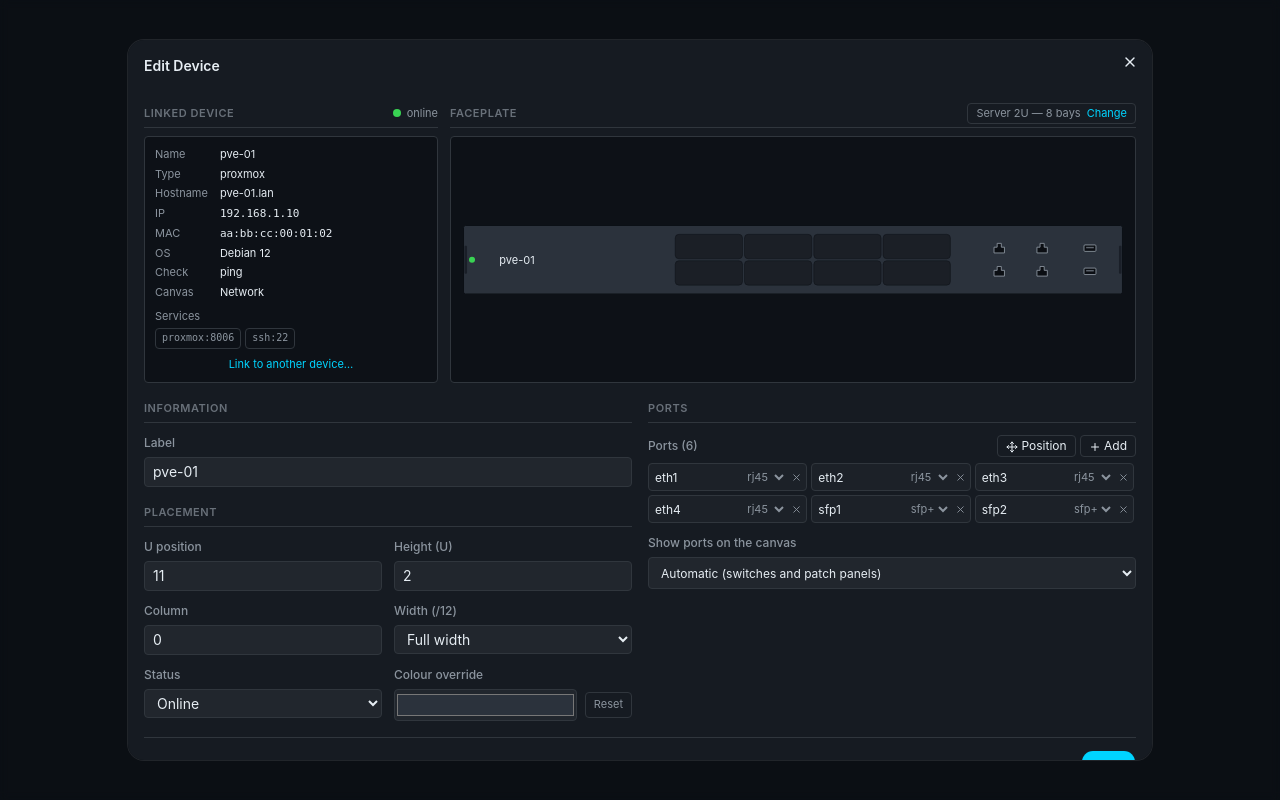
RackDeviceModal — editing › has nothing to position on a plate with no port
Click the button named "Remove port eth1": (797, 477) [789, 472, 804, 483]
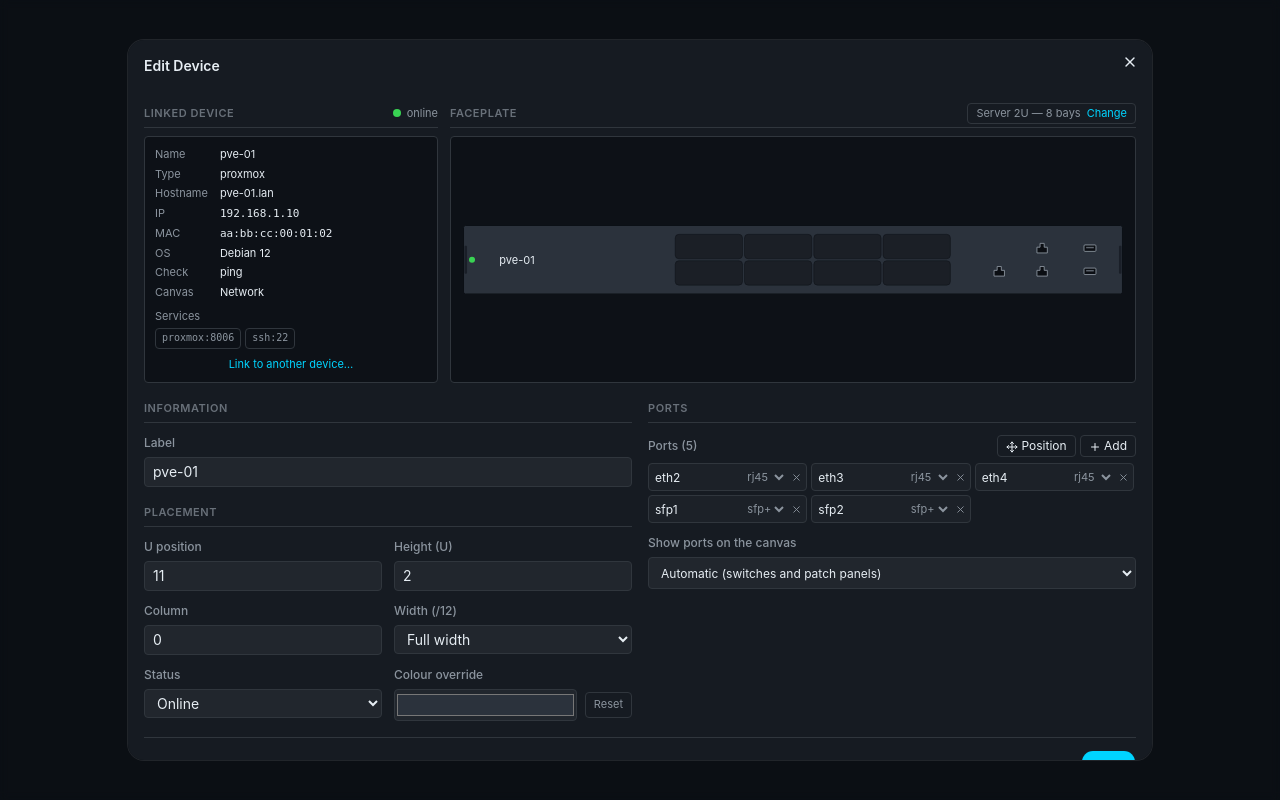
Click the button named "Remove port eth2": (797, 477) [789, 472, 804, 483]
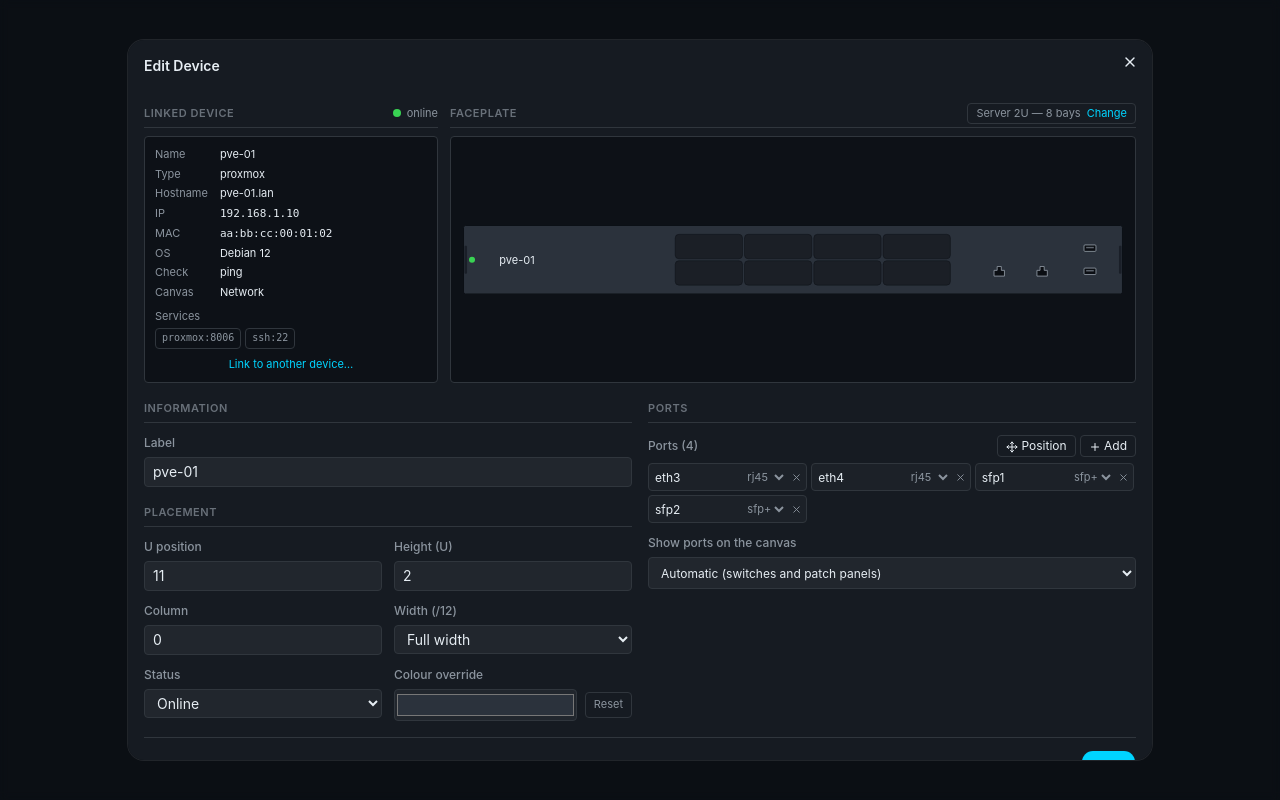
Click the button named "Remove port eth3": (797, 477) [789, 472, 804, 483]
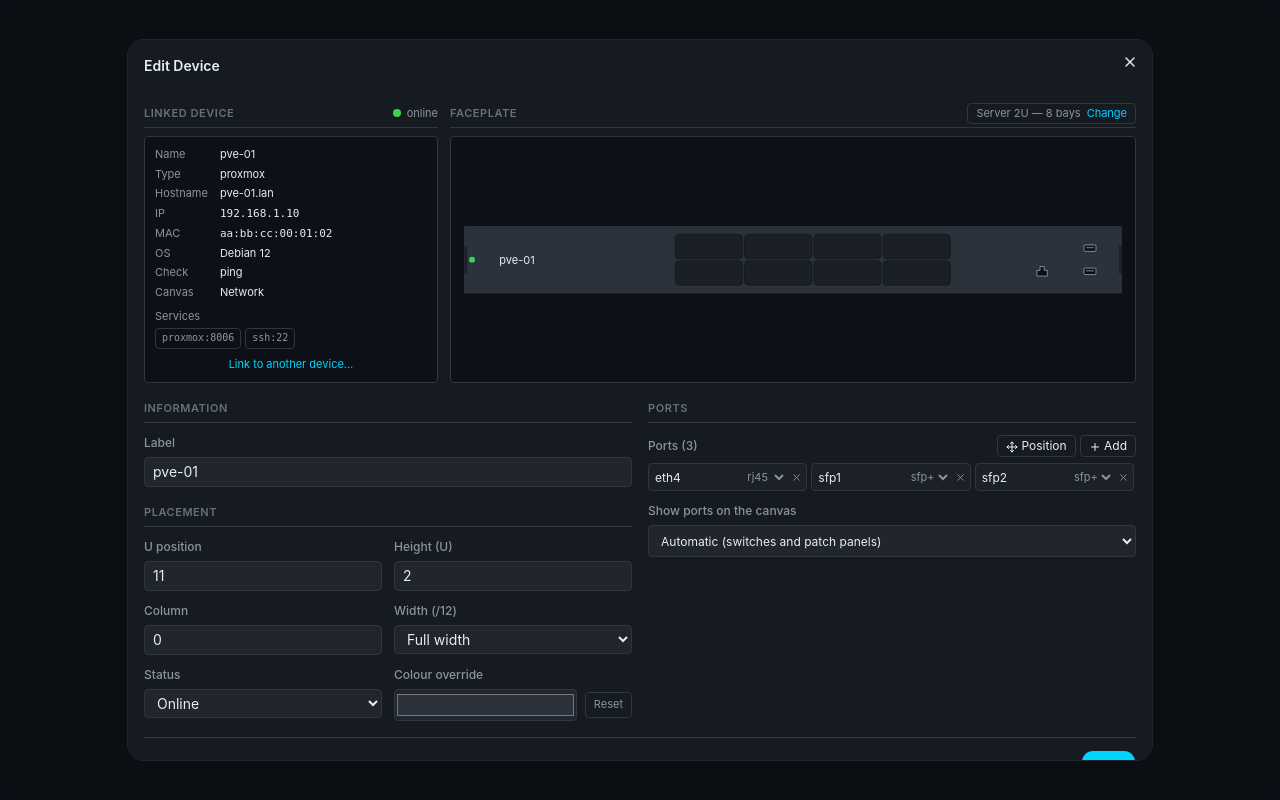
Click the button named "Remove port eth4": (797, 477) [789, 472, 804, 483]
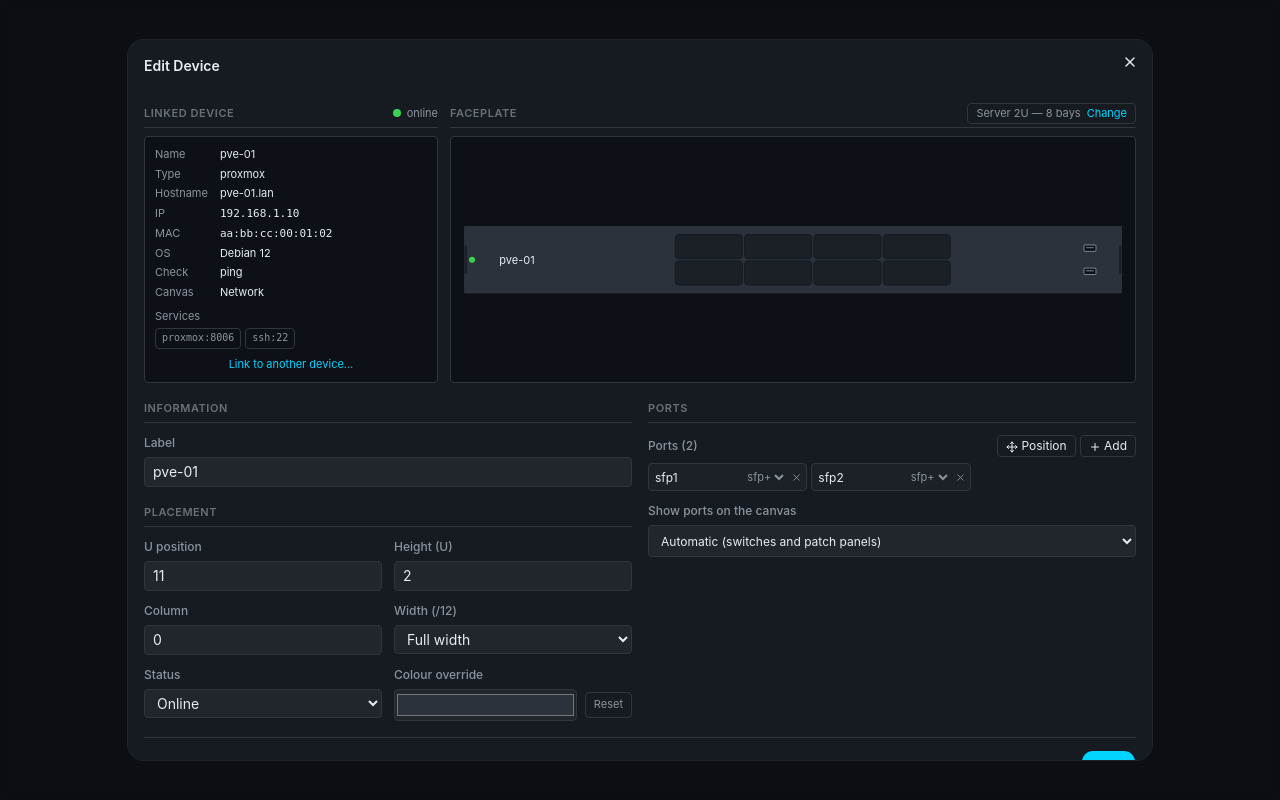
Click the button named "Remove port sfp1": (797, 477) [789, 472, 804, 483]
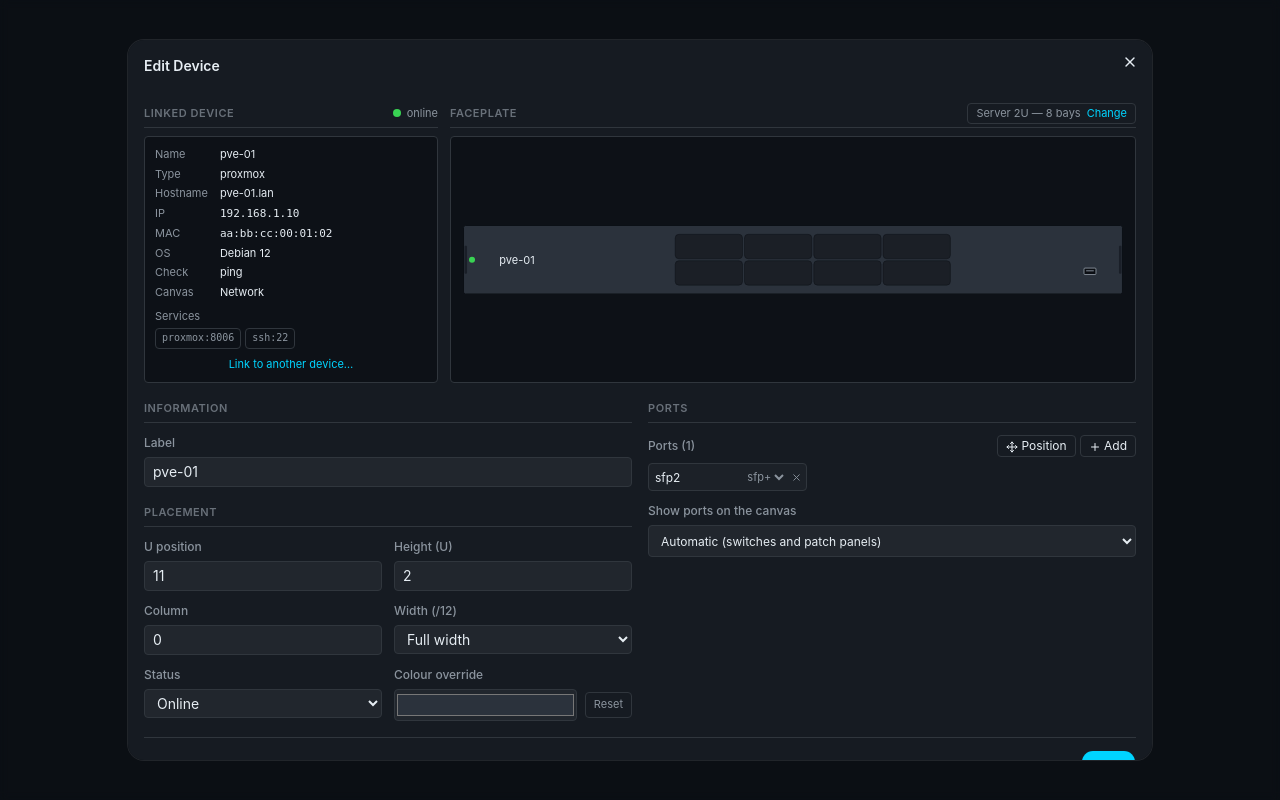
Click the button named "Remove port sfp2": (797, 477) [789, 472, 804, 483]
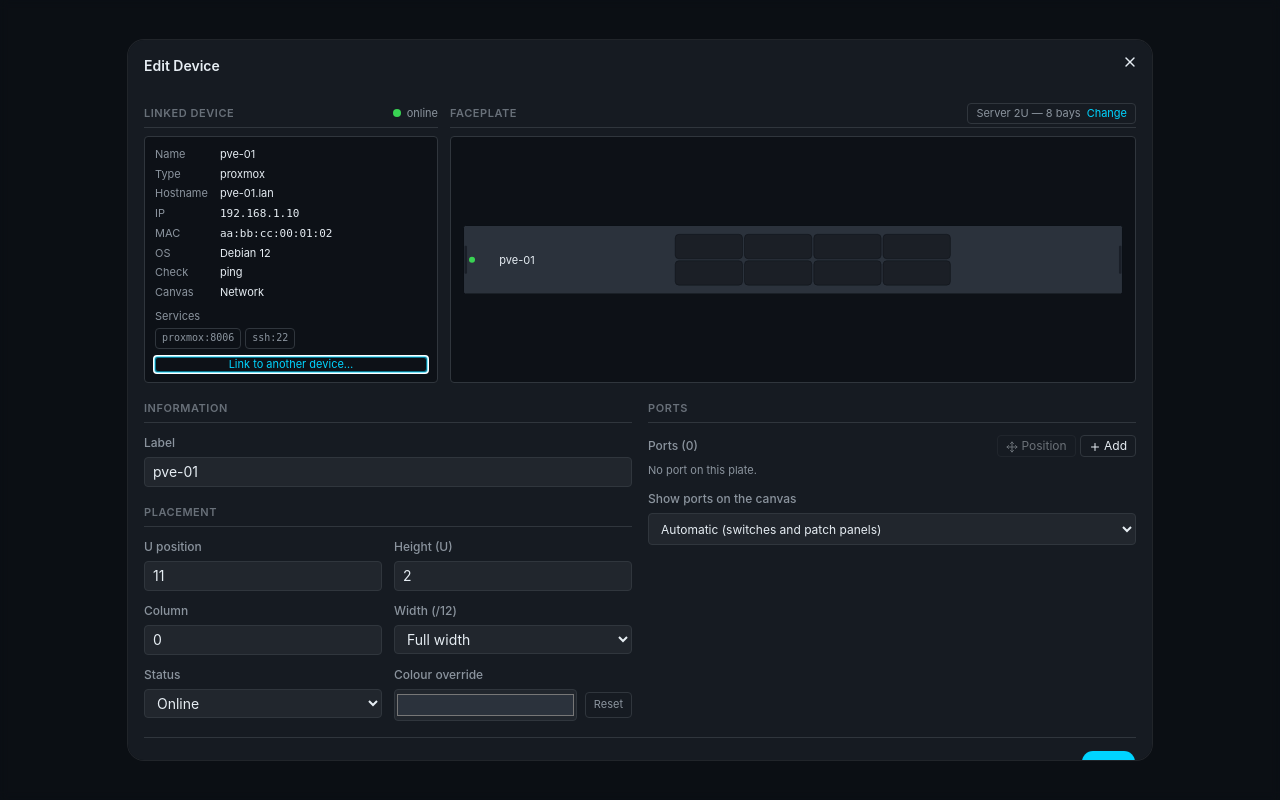
Check: the button with aria-label "Position ports" is disabled, box [997, 435, 1076, 457]
